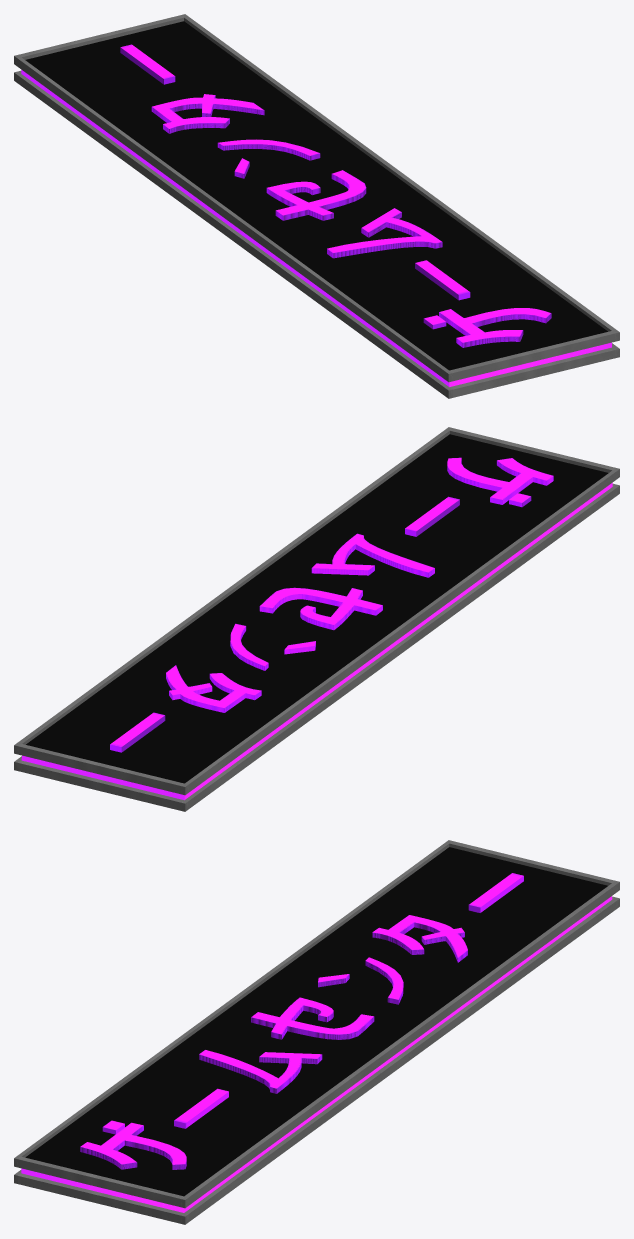
File: game_center.glb
3 renders of one model, top to bottom at view 1: azimuth 30°, elevation 25°; view 2: azimuth 150°, elevation 25°; view 3: azimuth 330°, elevation 25°, orthographic.
Parts seen in each view (by area): view 1: Box001, Box002; view 2: Box001, Box002; view 3: Box001, Box002.
Boxes of the visible parts, x1,y1,x2,y2 form: Box001: [14, 14, 619, 398]; Box002: [120, 44, 551, 347]; Box001: [14, 427, 619, 811]; Box002: [110, 457, 553, 752]; Box001: [14, 840, 619, 1224]; Box002: [80, 873, 523, 1169].
Size of the model in its own units: 41.58 by 6.59 by 183.
2 materials, 2 textured.
